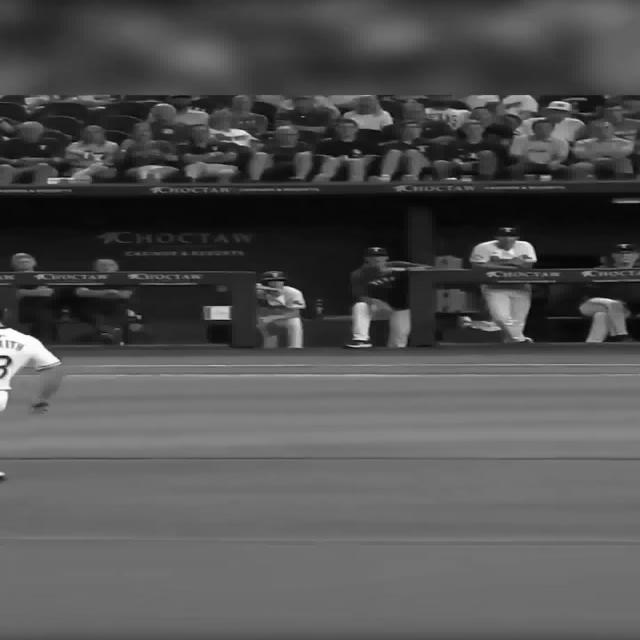shoe: (343, 340, 373, 348), (502, 336, 532, 344), (611, 335, 635, 342)
